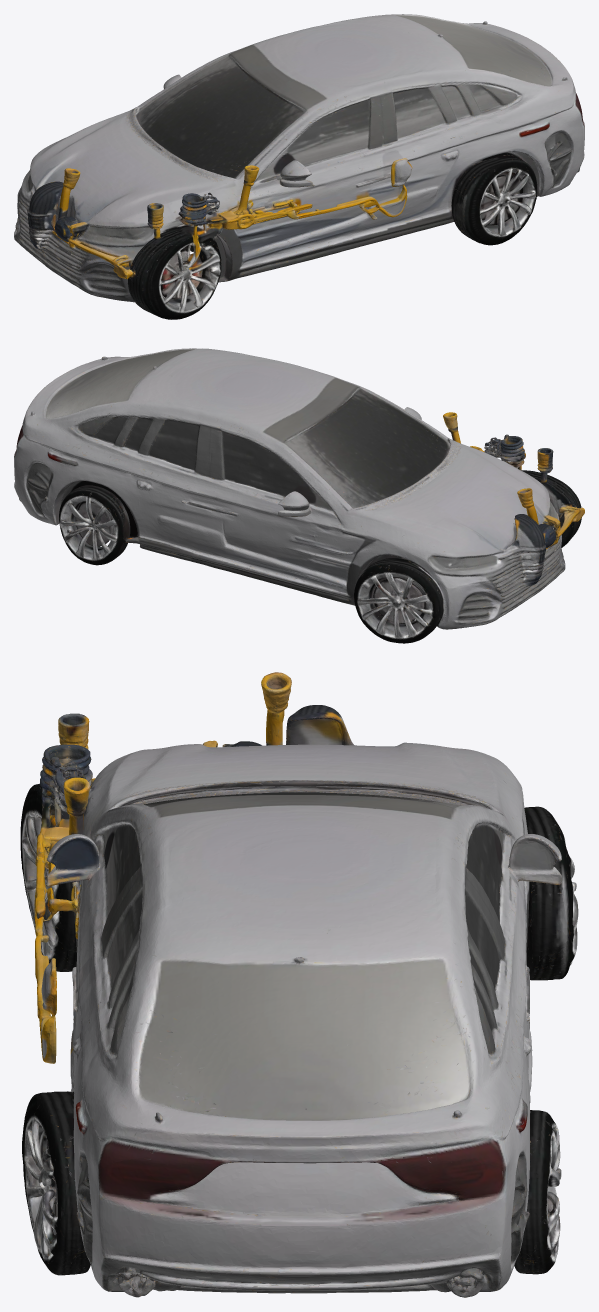
Rendered from car_chassis.glb.
3 renders of one model, top to bottom at view 1: azimuth 30°, elevation 25°; view 2: azimuth 150°, elevation 25°; view 3: azimuth 270°, elevation 25°, orthographic. The views are drawn at different scales.
Parts seen in each view (by area): view 1: world; view 2: world; view 3: world.
Boxes of the visible parts, <box> form: world: <box>14,14,584,319</box>; world: <box>14,348,584,643</box>; world: <box>20,672,578,1297</box>.
Bounding box in the file's own units: 1.99 × 0.6088 × 0.9535.
Materials: 1 (1 with a texture image).
